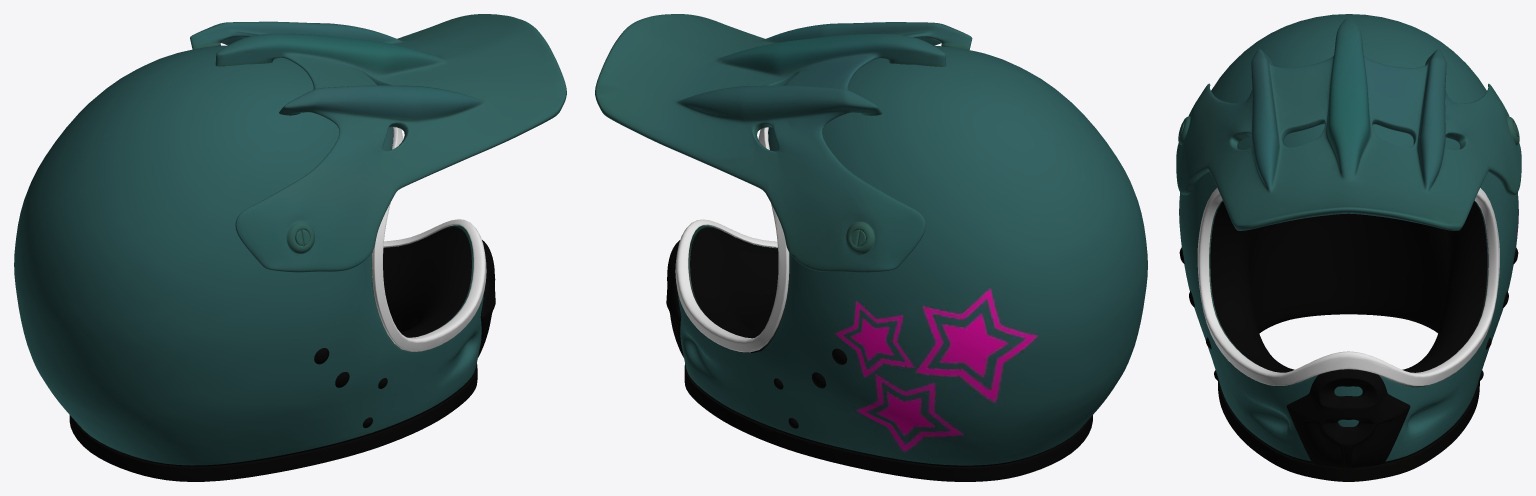
The model's file is rynfkn_motorcycle.glb.
The picture shows the model from 3 angles, left to right: view 1: azimuth 30°, elevation 25°; view 2: azimuth 150°, elevation 25°; view 3: azimuth 270°, elevation 25°; orthographic projection. The views are drawn at different scales.
Visible parts, largest first — view 1: Object_3, Object_5, Object_2, Object_4; view 2: Object_3, Object_5, Object_2, Object_4; view 3: Object_3, Object_5, Object_4, Object_2.
Part boxes in pixels (box(x1,y1,x2,y2)): Object_3: box(14, 14, 566, 481); Object_5: box(383, 227, 471, 337); Object_2: box(372, 127, 486, 351); Object_4: box(314, 240, 495, 428); Object_3: box(595, 14, 1147, 481); Object_5: box(690, 227, 778, 338); Object_2: box(675, 127, 789, 352); Object_4: box(666, 240, 847, 428); Object_3: box(1176, 14, 1521, 481); Object_5: box(1210, 201, 1487, 372); Object_4: box(1179, 247, 1518, 468); Object_2: box(1197, 188, 1499, 386).
Bounding box in the file's own units: 3.61 × 2.62 × 2.31.
4 materials, 1 textured.
